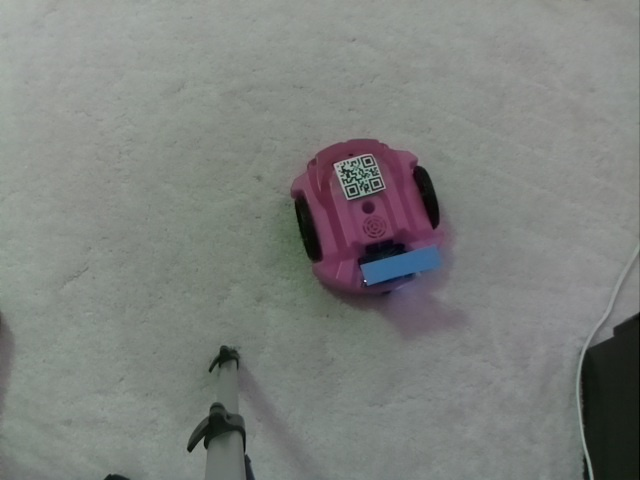chassis: (285, 133, 447, 308)
qr: (334, 154, 386, 200)
